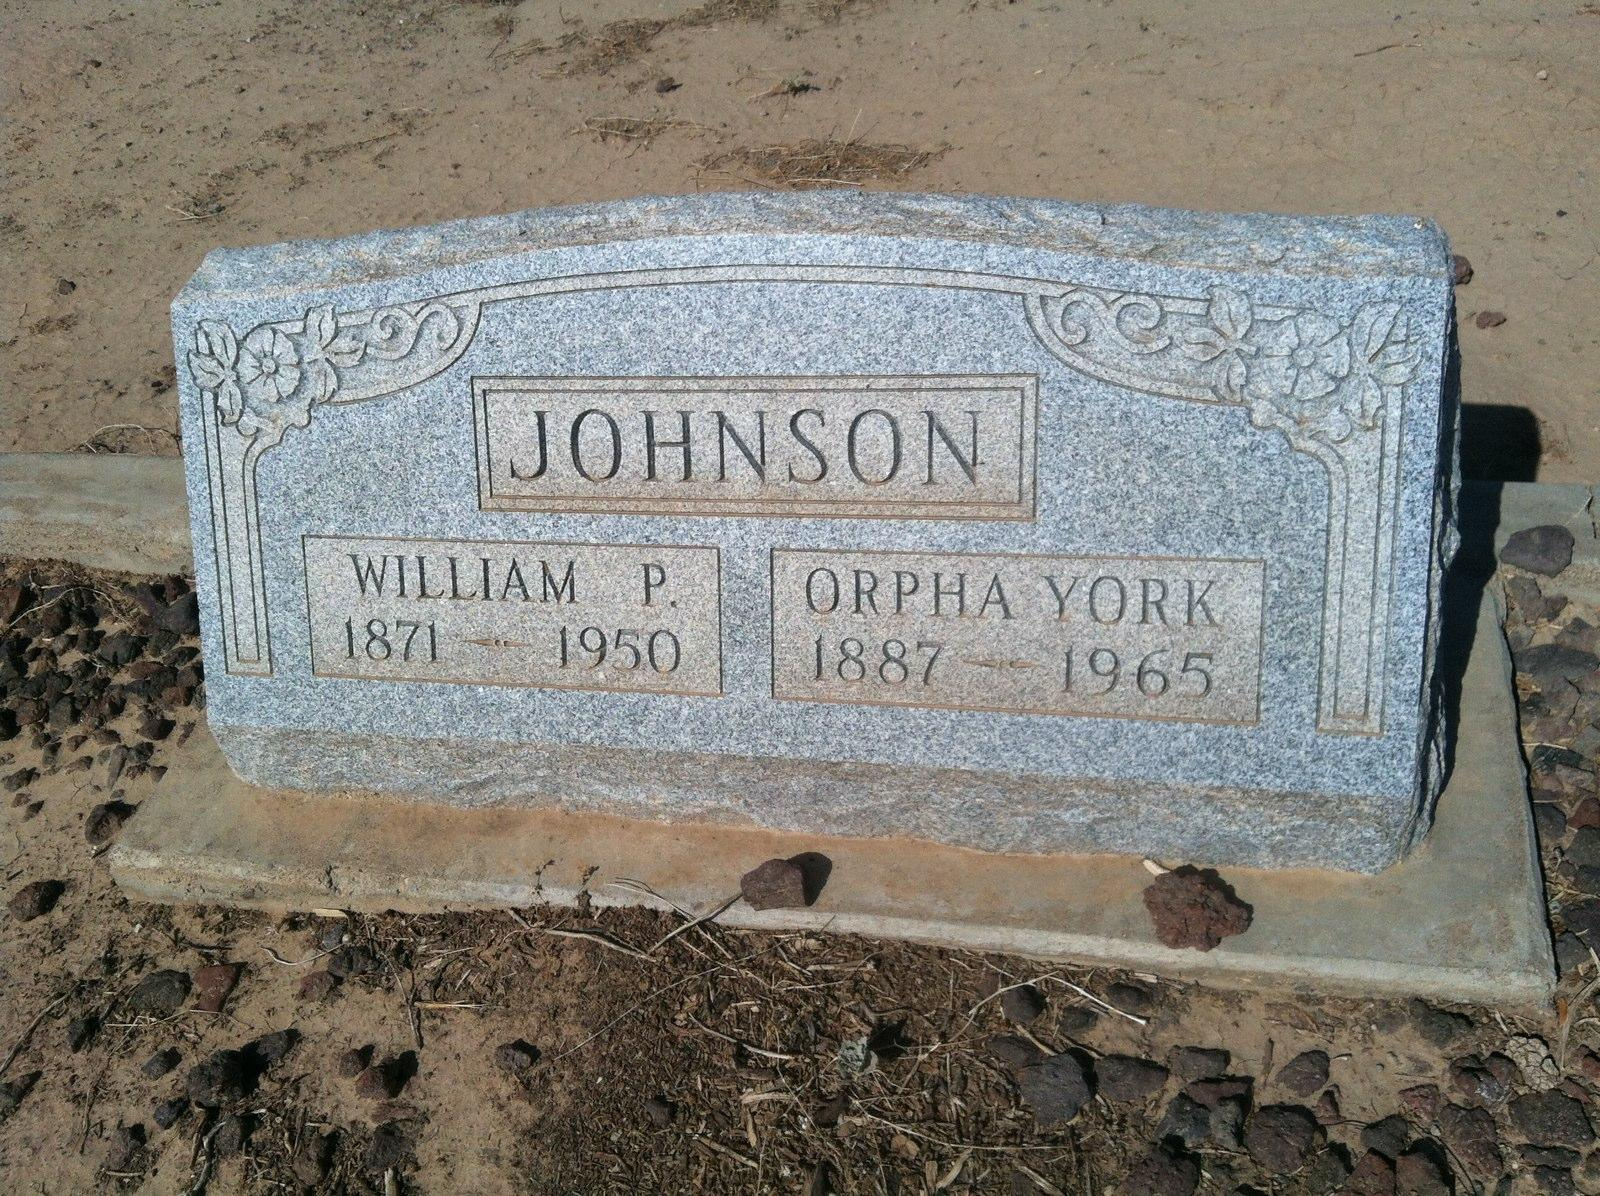upright: (105, 191, 1565, 1019)
